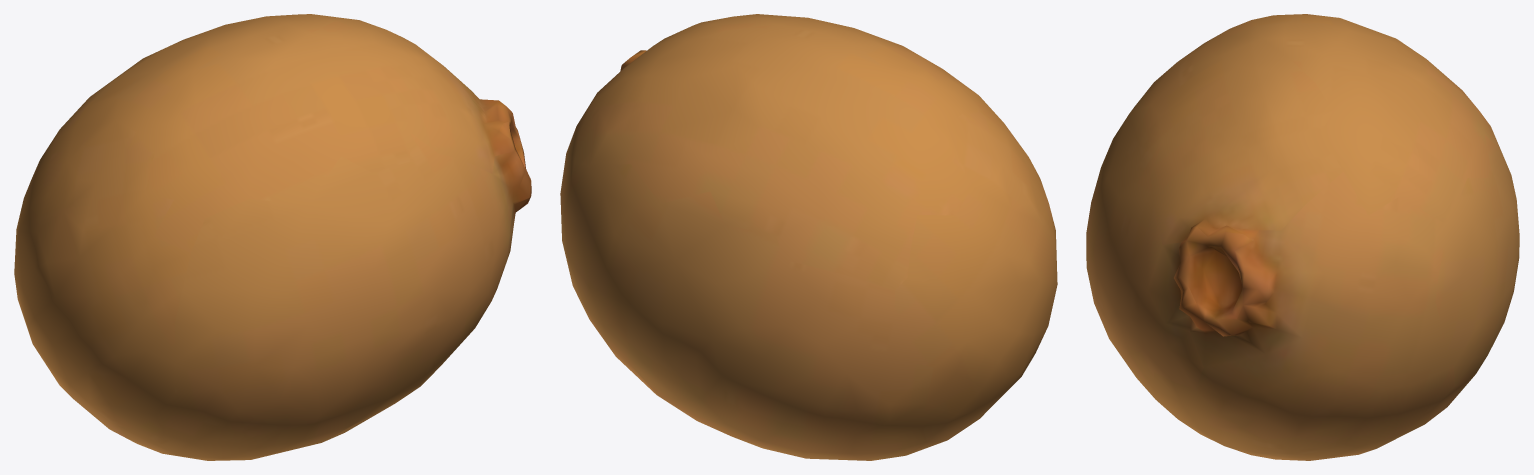
The model's file is kiwi.glb.
3 renders of one model, left to right at view 1: azimuth 30°, elevation 25°; view 2: azimuth 150°, elevation 25°; view 3: azimuth 270°, elevation 25°, orthographic.
Visible parts, largest first — view 1: textured_mesh.obj; view 2: textured_mesh.obj; view 3: textured_mesh.obj.
Part boxes in pixels (x1,y1,x2,y2): textured_mesh.obj: (14, 14, 531, 460); textured_mesh.obj: (560, 14, 1057, 460); textured_mesh.obj: (1086, 14, 1519, 460).
Size of what is drawn, in the model's own units: 0.2399 by 0.2 by 0.1952.
Materials: 1 (1 with a texture image).
